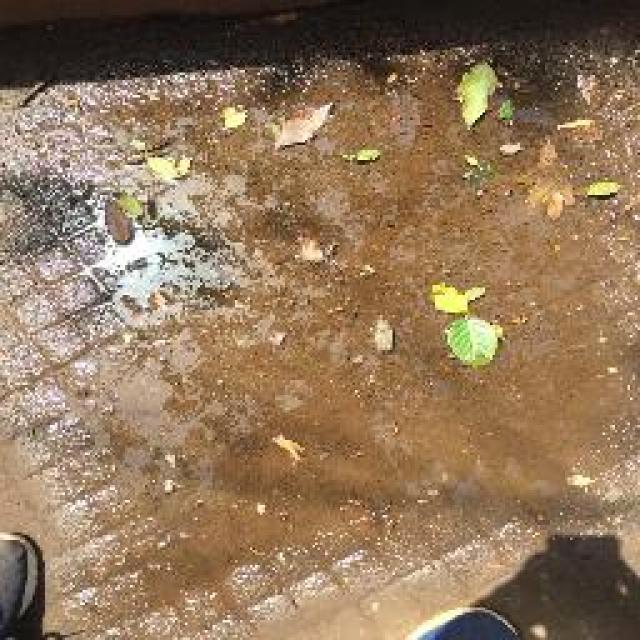waterlogging: (87, 47, 635, 518)
